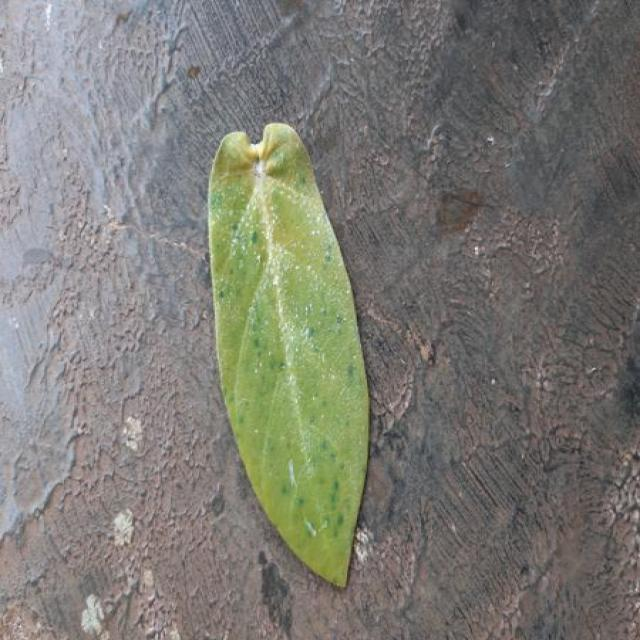ekka: (208, 124, 368, 586)
